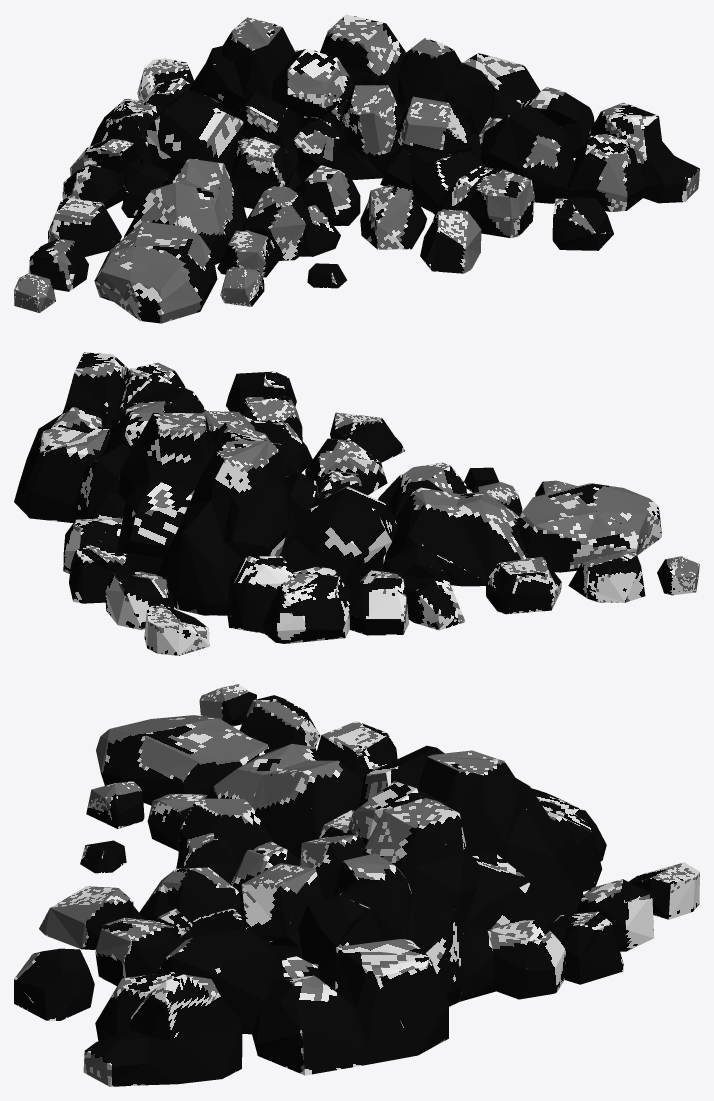
3 views of the same model, one above another, from view 1: azimuth 30°, elevation 25°; view 2: azimuth 150°, elevation 25°; view 3: azimuth 270°, elevation 25° (orthographic). The views are drawn at different scales.
Parts seen in each view (by area): view 1: OBJ0d0; view 2: OBJ0d0; view 3: OBJ0d0.
Boxes of the visible parts, x1,y1,x2,y2 form: OBJ0d0: [14, 14, 699, 323]; OBJ0d0: [14, 352, 699, 655]; OBJ0d0: [14, 684, 699, 1086].
Bounding box in the file's own units: 0.6407 × 0.1199 × 0.4877.
Materials: 1 (1 with a texture image).
